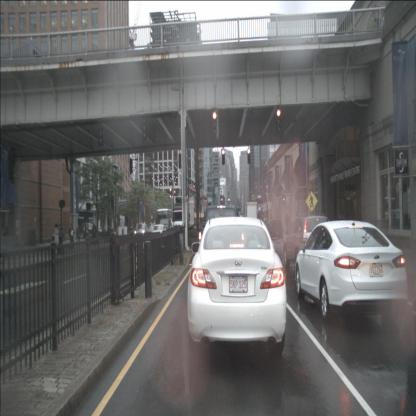human-pedestrian-adult: (58, 223, 64, 256), (54, 223, 60, 255), (69, 223, 75, 253), (92, 222, 97, 246), (76, 224, 81, 244)
vehicle-bus-rigid: (156, 209, 173, 232)
vehicle-car: (187, 216, 287, 356), (295, 220, 409, 320), (283, 215, 333, 269), (268, 219, 283, 240), (134, 222, 148, 238), (152, 224, 166, 239), (160, 218, 172, 234)
vehicle-truck: (198, 206, 241, 252), (171, 196, 195, 234), (243, 201, 258, 237)
